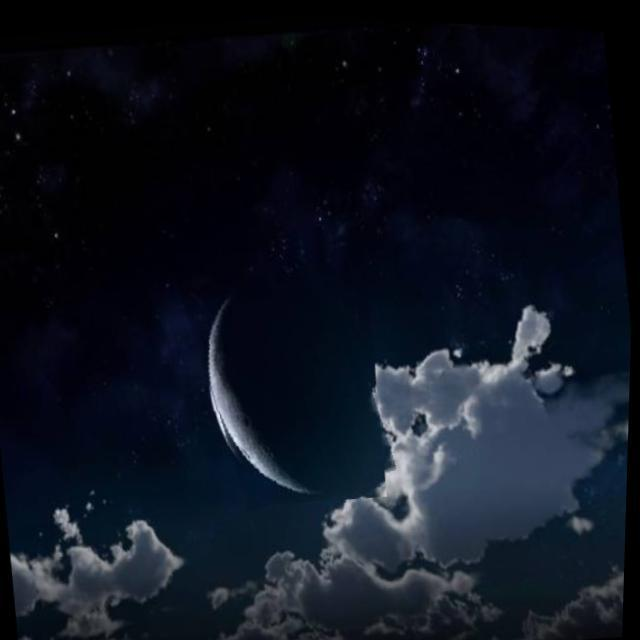moon: (177, 218, 396, 514)
